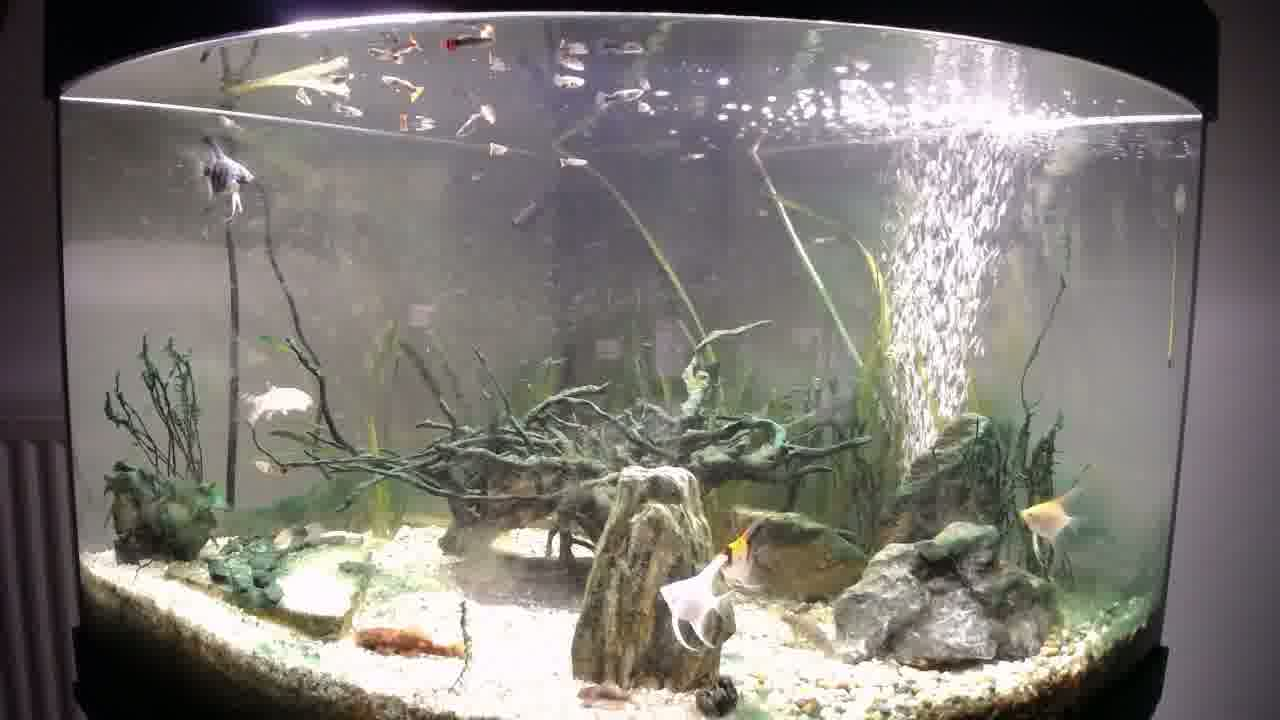Ancistrus: (350, 620, 473, 665)
Botia_Almorhae: (234, 381, 319, 425)
Botia_Striata: (772, 603, 841, 659)
Corydoras_Panda: (575, 676, 643, 712)
Pterophyllum_Scalare_BB: (186, 133, 259, 224)
Pterophyllum_Scalare_W: (661, 550, 730, 655)
Pterophyllum_Scalare_Y: (1018, 482, 1086, 565)
Pterophyllum_Scalare_YWB: (723, 514, 771, 592)
